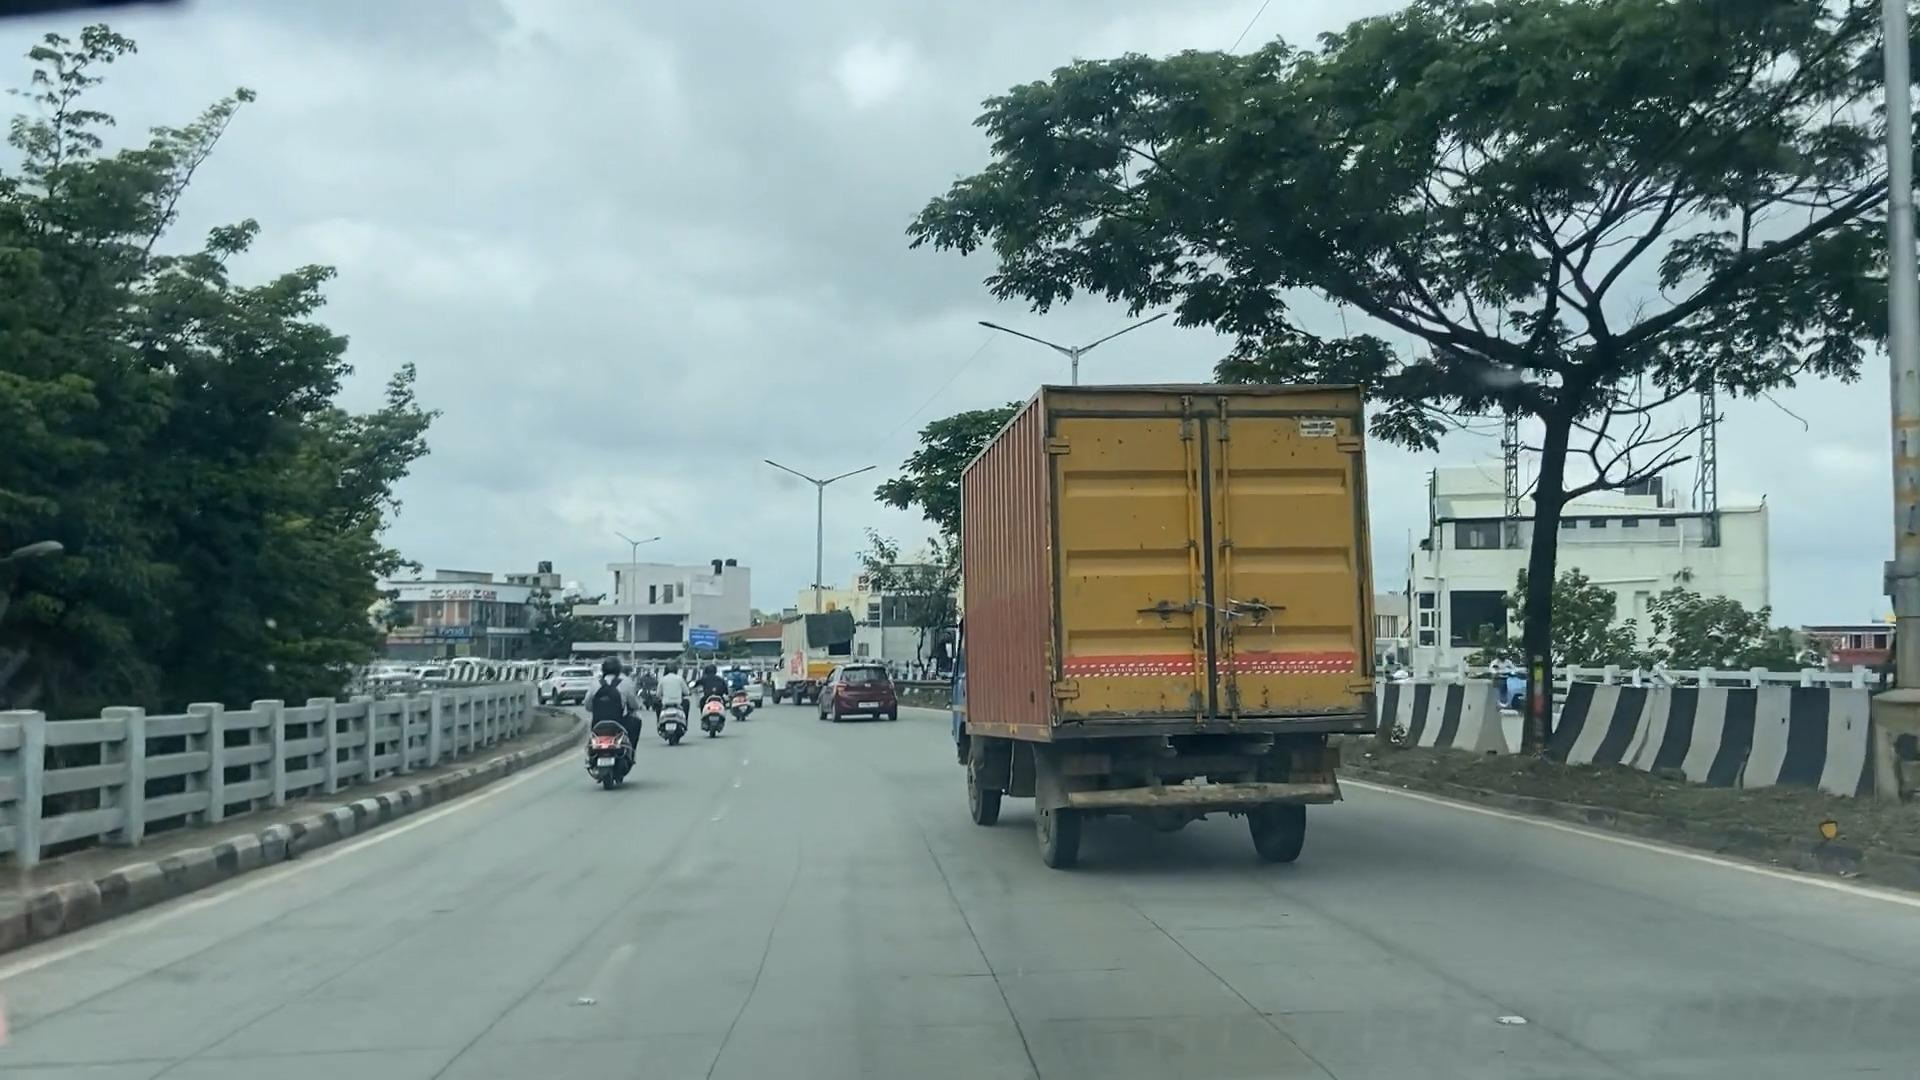HMV: (996, 370, 1398, 869)
LMV: (587, 644, 650, 783), (818, 654, 893, 731), (647, 650, 702, 749), (696, 638, 730, 743)
